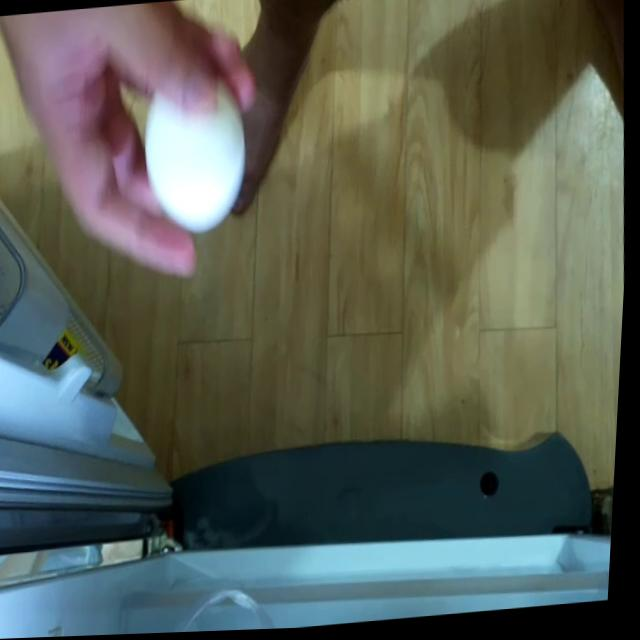egg: (133, 56, 258, 239)
